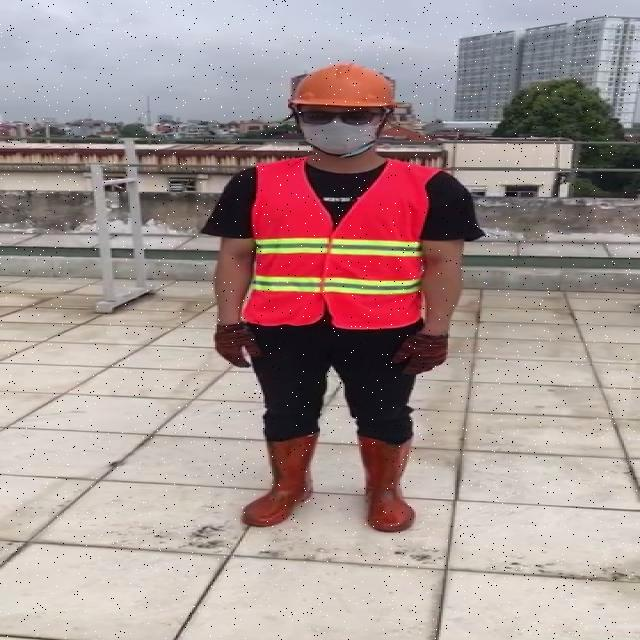Hard_hat: (283, 58, 407, 119)
Person: (196, 55, 489, 566)
Vest: (244, 156, 427, 328)
